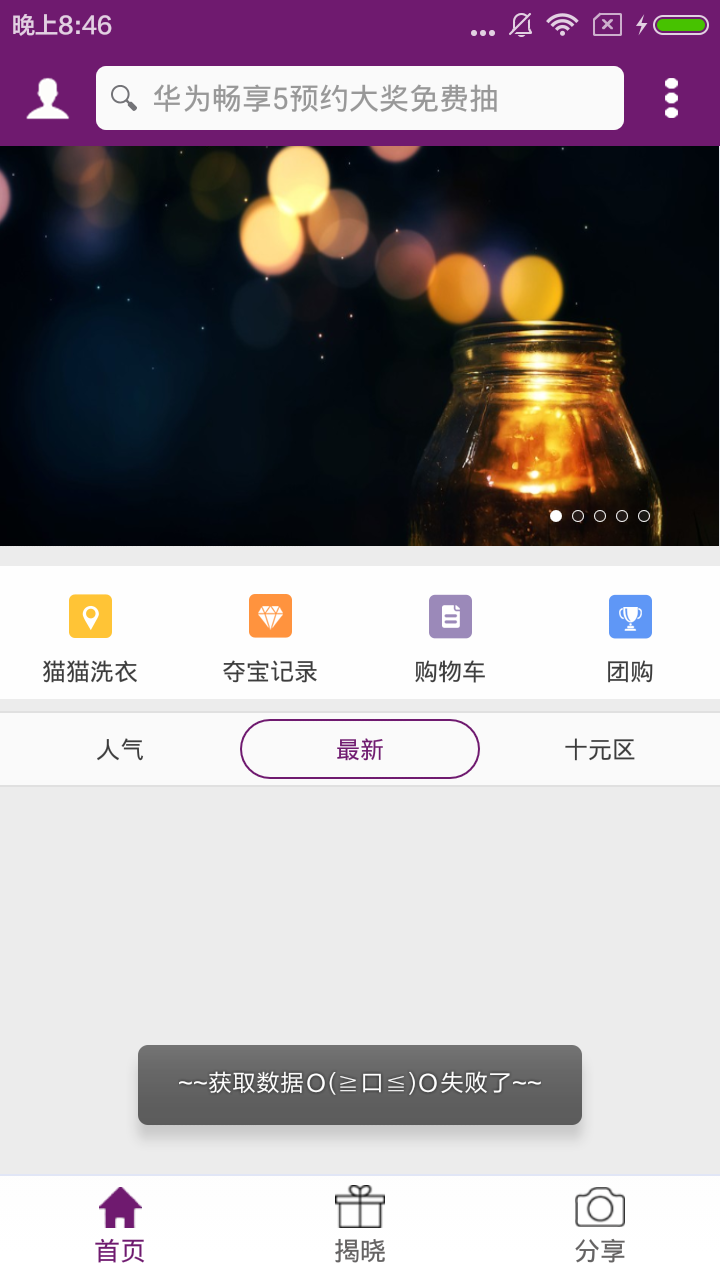alert: (126, 1038, 599, 1134)
imgbutton: (21, 64, 76, 130), (656, 70, 693, 131)
nav: (18, 569, 720, 706), (13, 1177, 703, 1280), (11, 713, 720, 804)
radiobutton: (533, 501, 663, 530)
textview: (85, 58, 638, 145)
